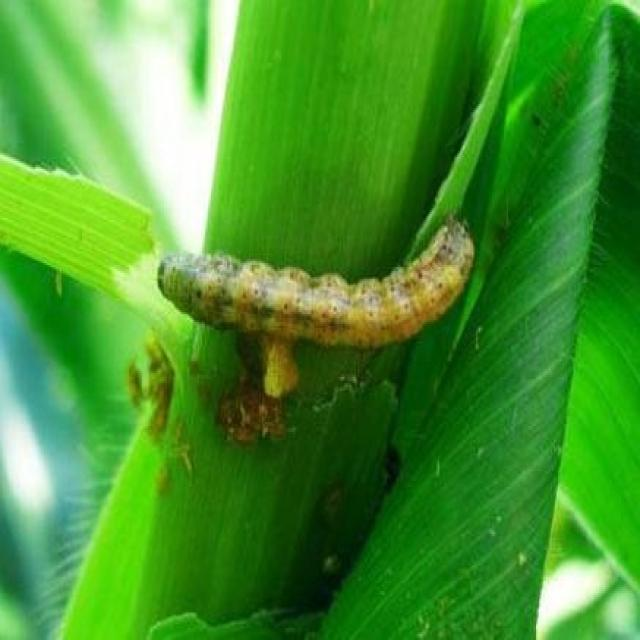army worm: (157, 221, 485, 354)
